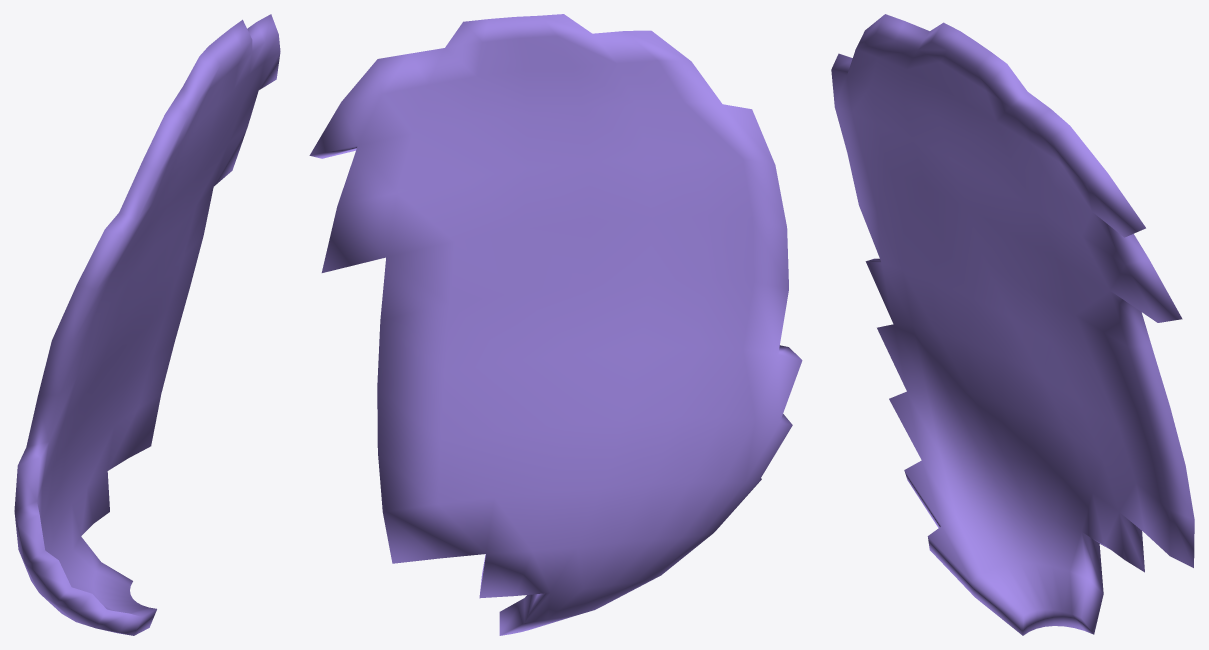
File: basura5.fbx
3 renders of one model, left to right at view 1: azimuth 30°, elevation 25°; view 2: azimuth 150°, elevation 25°; view 3: azimuth 270°, elevation 25°, orthographic. The views are drawn at different scales.
Visible parts, largest first — view 1: Sphere.001; view 2: Sphere.001; view 3: Sphere.001.
Boxes of the visible parts, x1=… form: Sphere.001: x1=14, y1=14, x2=280, y2=635; Sphere.001: x1=309, y1=14, x2=802, y2=635; Sphere.001: x1=831, y1=14, x2=1194, y2=635.
Size of the model in its own units: 396 by 591 by 315.
